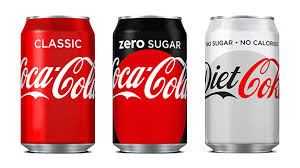can: (195, 12, 289, 158), (14, 11, 100, 159), (109, 12, 193, 159)
